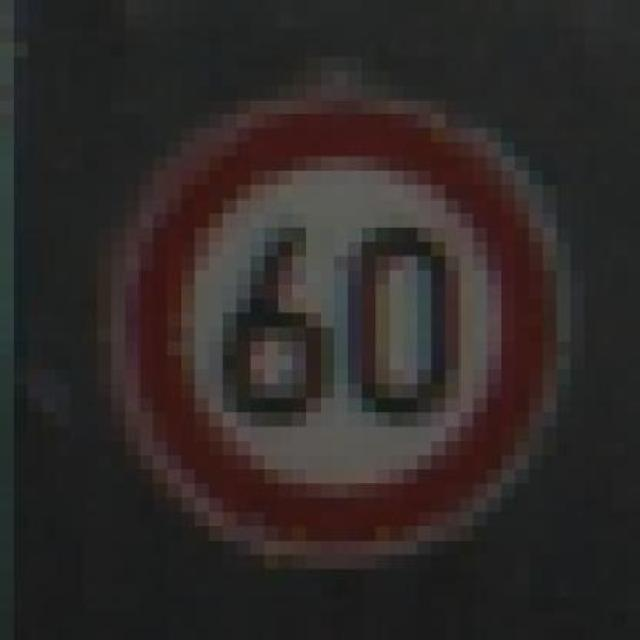forb_speed_over_60: (139, 102, 553, 553)
